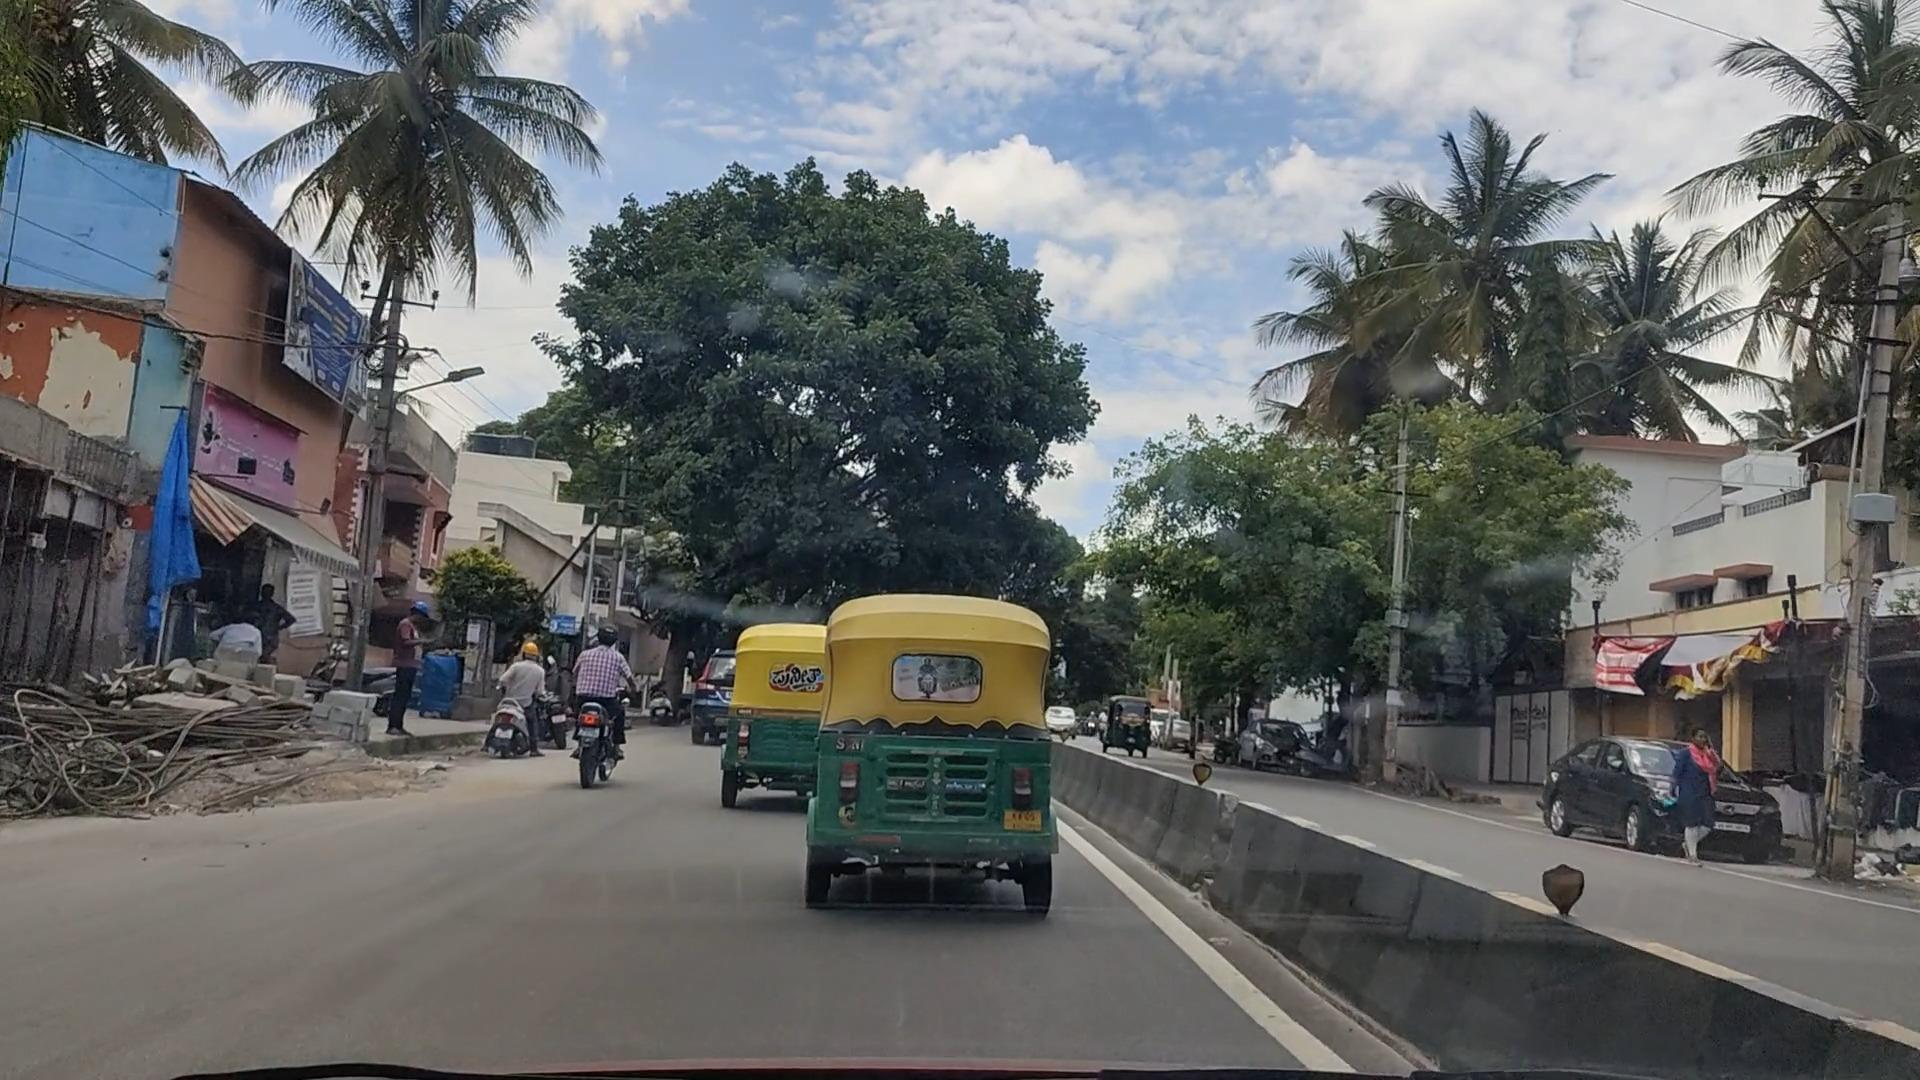LMV: (836, 585, 1071, 920), (736, 636, 839, 800), (558, 636, 633, 774)
